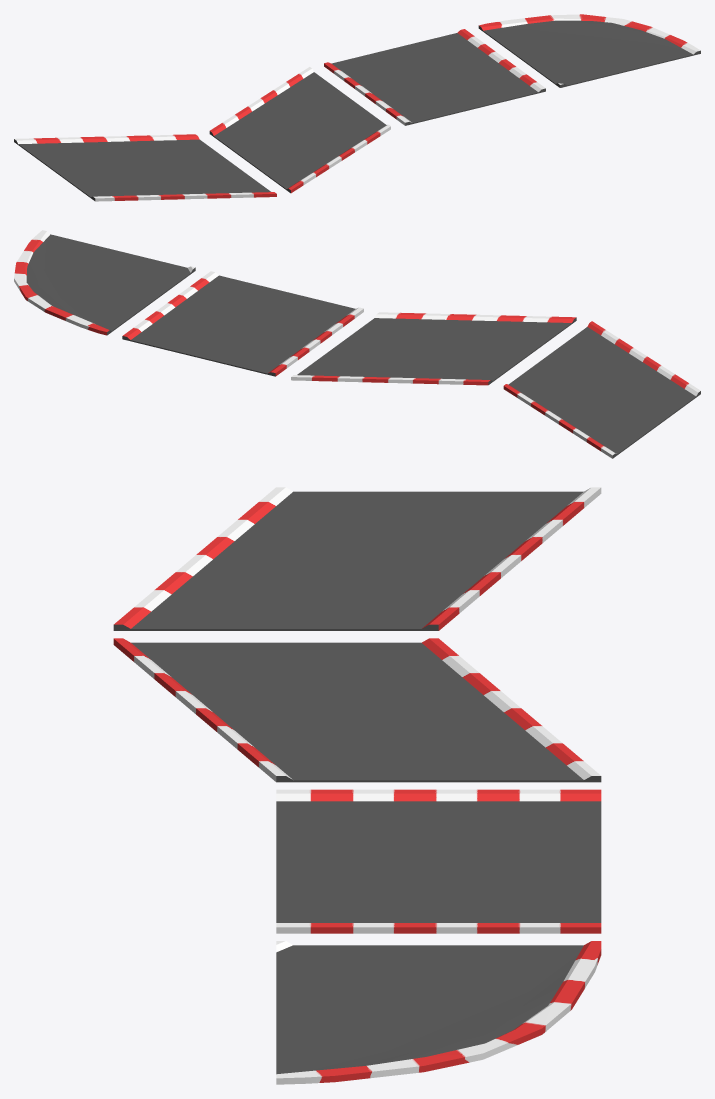
File: road.fbx
3 renders of one model, top to bottom at view 1: azimuth 30°, elevation 25°; view 2: azimuth 150°, elevation 25°; view 3: azimuth 270°, elevation 25°, orthographic. The views are drawn at different scales.
Parts seen in each view (by area): view 1: pCube28, pCube17, pCube21, pCube20; view 2: pCube21, pCube17, pCube28, pCube20; view 3: pCube17, pCube21, pCube28, pCube20.
Part boxes in pixels (box(x1,y1,x2,y2)): pCube28: box(14, 134, 276, 201); pCube17: box(324, 29, 545, 125); pCube21: box(209, 67, 390, 193); pCube20: box(478, 14, 700, 87); pCube21: box(291, 312, 576, 385); pCube17: box(122, 271, 363, 376); pCube28: box(503, 321, 700, 458); pCube20: box(14, 230, 195, 335); pCube17: box(276, 789, 601, 933); pCube21: box(113, 638, 601, 782); pCube28: box(113, 487, 601, 630); pCube20: box(276, 941, 601, 1084).
Size of the model in its own units: 301 by 1.51 by 105.
